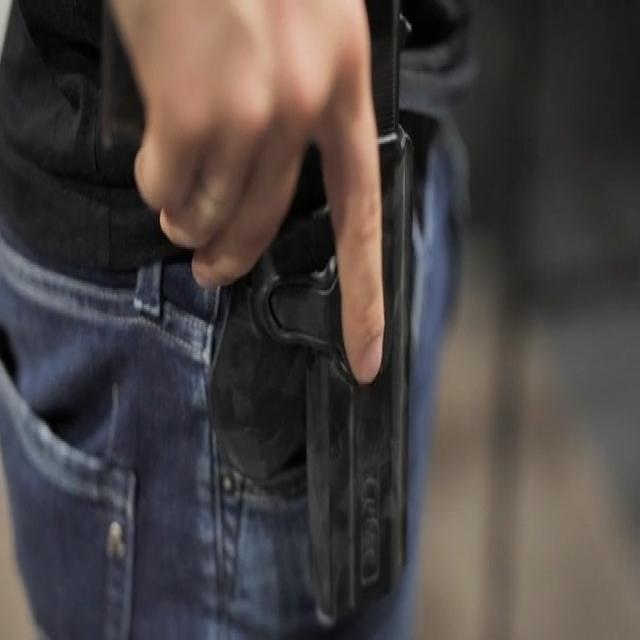Gun_Holder: (139, 0, 427, 640)
